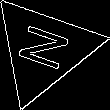N_E: (11, 22, 76, 77)
